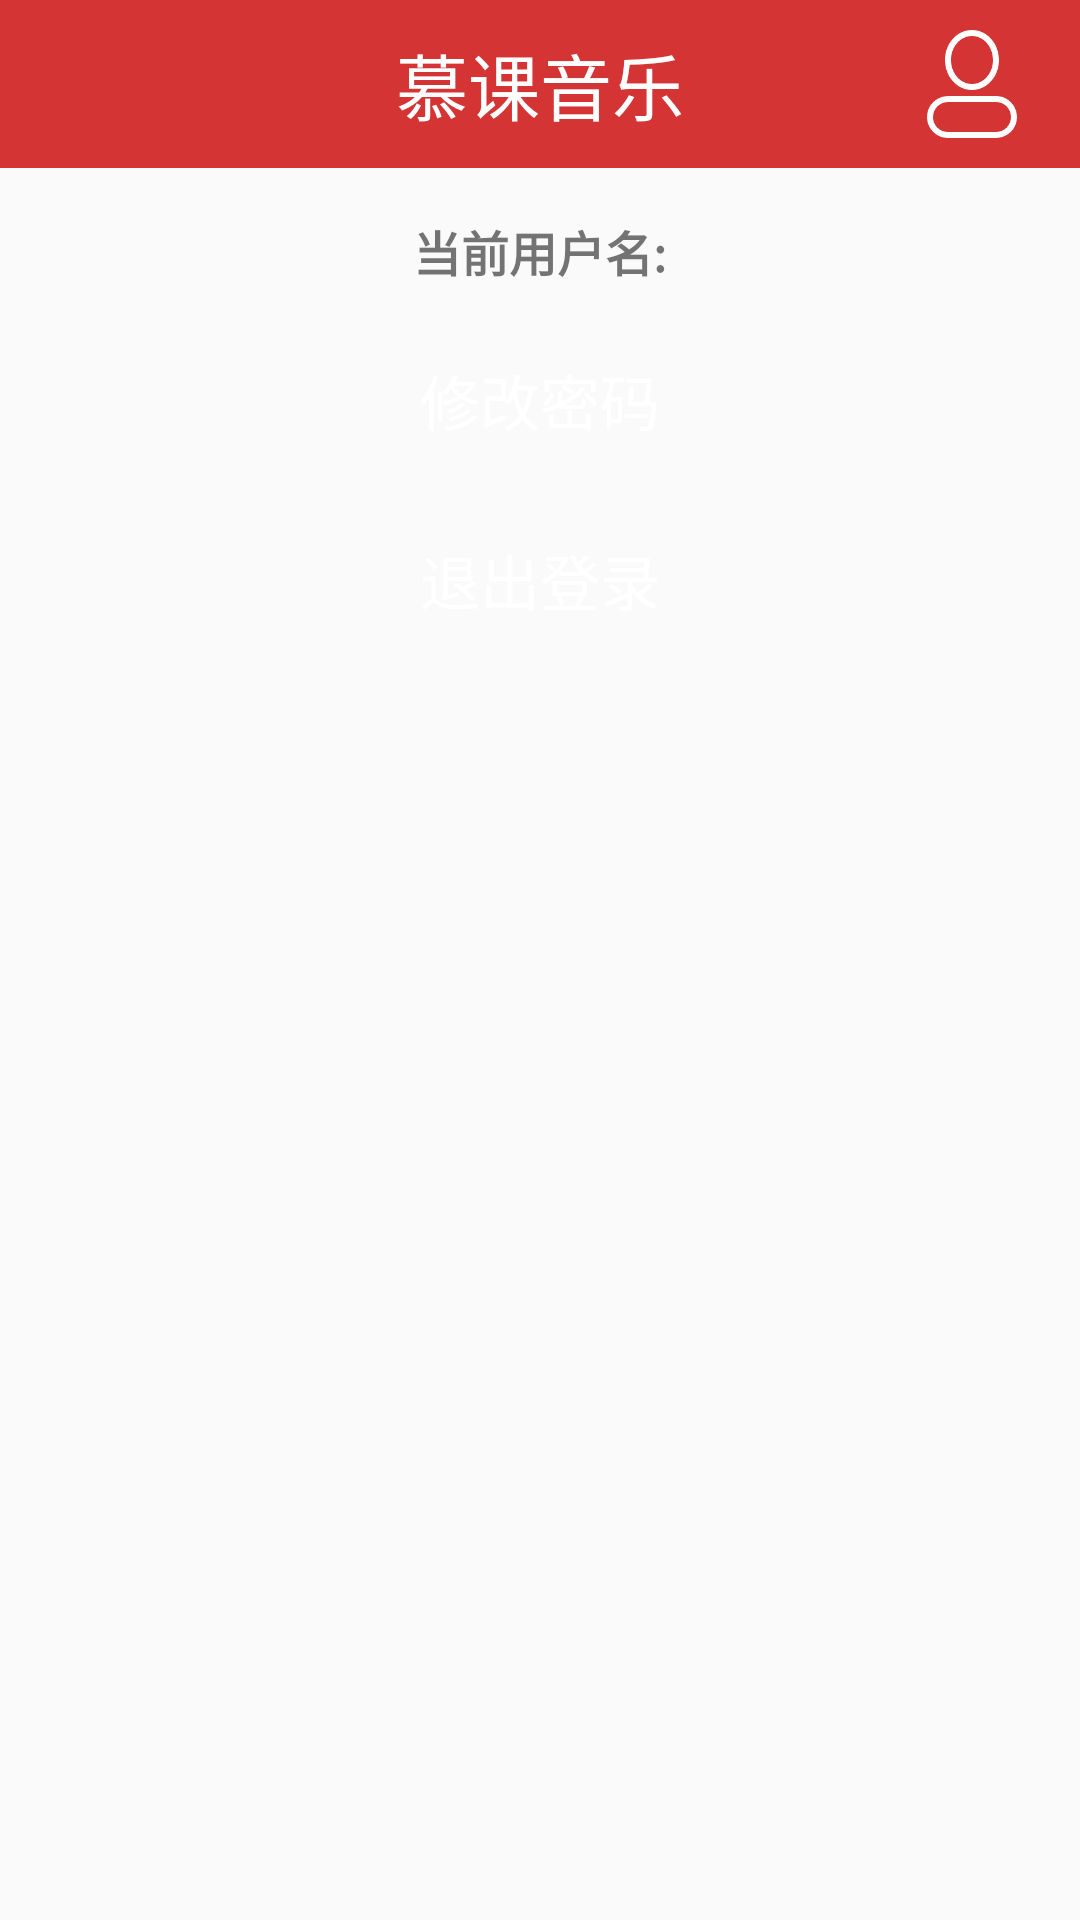

Where to tap for icons on this 1080px x 1920px app screen, as [x,y]:
mine: [972,84]
